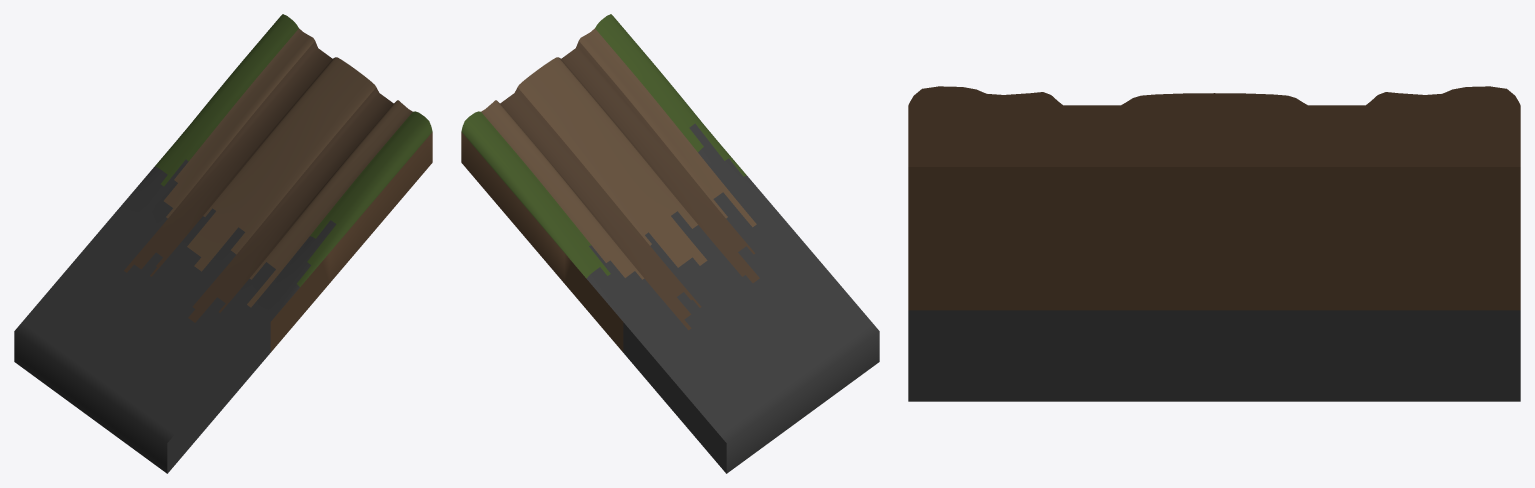
3 views of the same model, side by side, from view 1: azimuth 30°, elevation 25°; view 2: azimuth 150°, elevation 25°; view 3: azimuth 270°, elevation 25° (orthographic). The views are drawn at different scales.
Parts seen in each view (by area): view 1: b4u; view 2: b4u; view 3: b4u.
Boxes of the visible parts, x1,y1,x2,y2 form: b4u: (14,14,432,473); b4u: (461,14,879,473); b4u: (908,86,1520,401).
Bounding box in the file's own units: 9 × 9.31 × 9.
